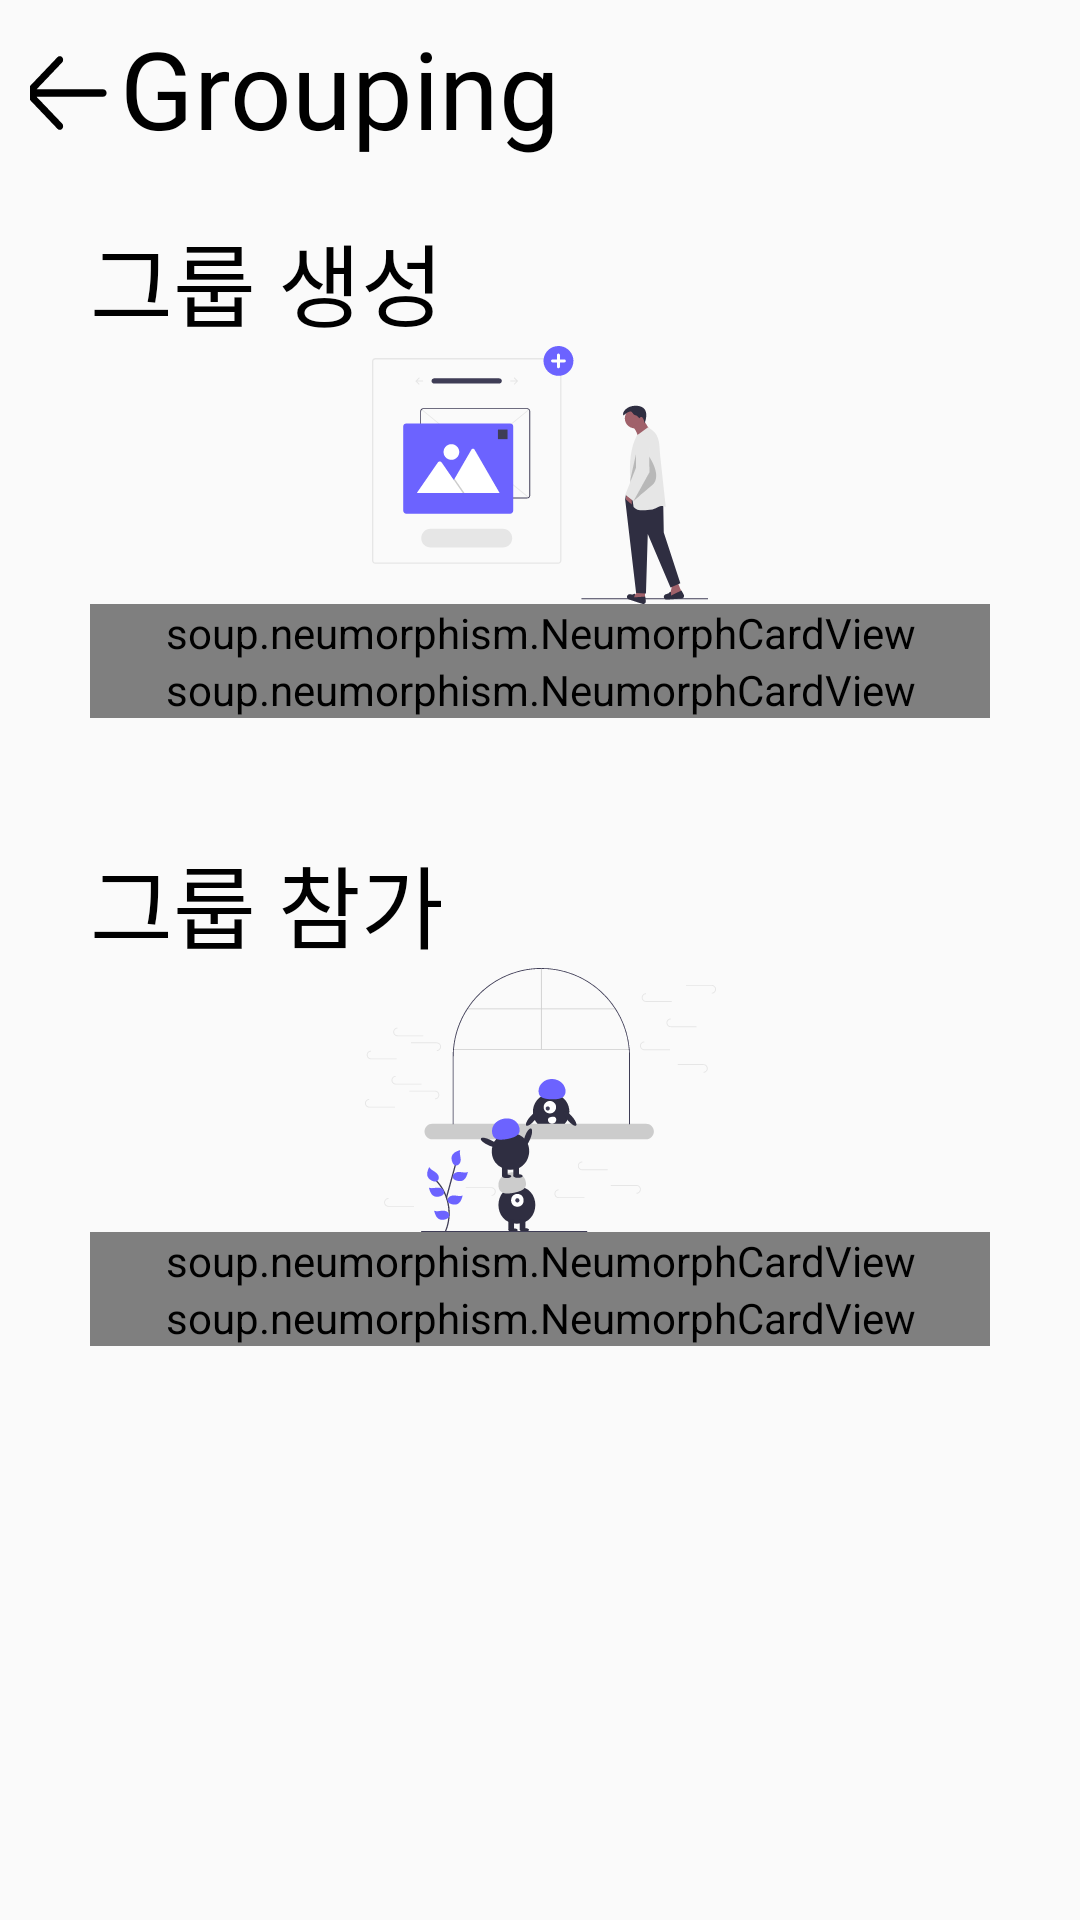

Locate icon controls on the screen. Image size 1080x1920, boxes as (x1, y1, x2, y2).
back: (30, 56, 107, 130)
